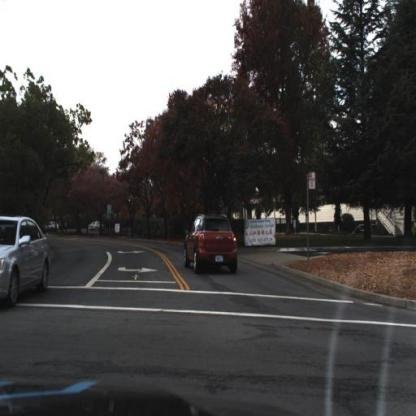car: (1, 215, 55, 312), (184, 213, 240, 280), (90, 221, 107, 235)
